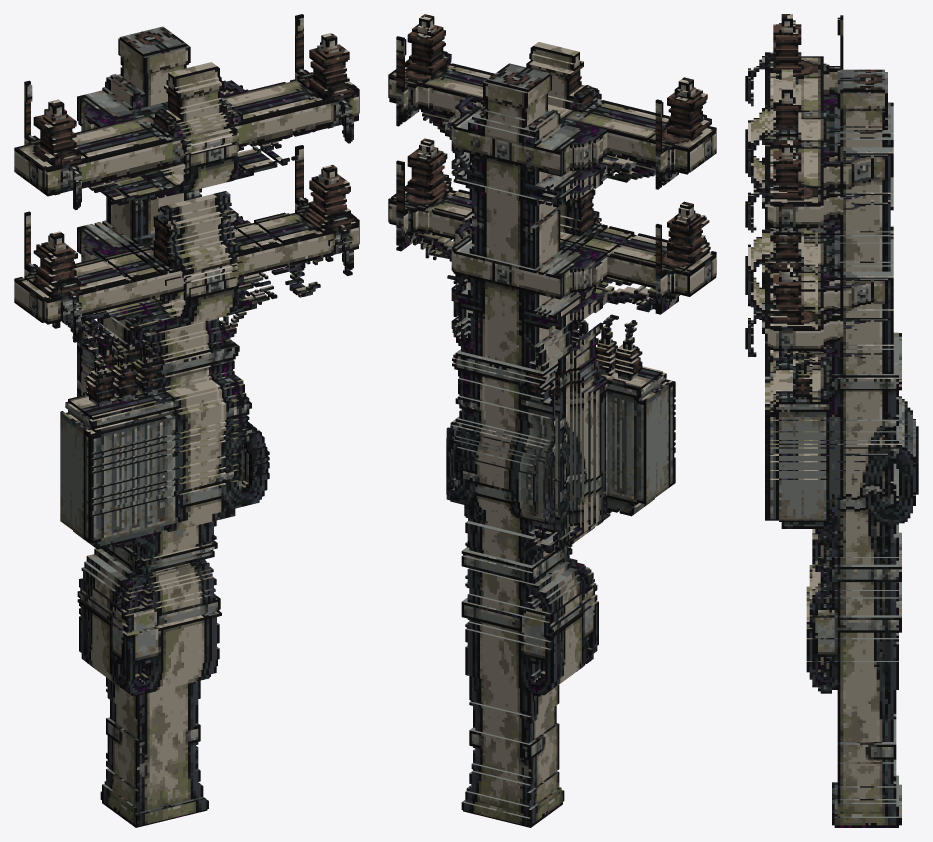
The model's file is city_utility_pole.glb.
3 renders of one model, left to right at view 1: azimuth 30°, elevation 25°; view 2: azimuth 150°, elevation 25°; view 3: azimuth 270°, elevation 25°, orthographic. The views are drawn at different scales.
Parts seen in each view (by area): view 1: city_utility_pole; view 2: city_utility_pole; view 3: city_utility_pole.
Part boxes in pixels (<box>): city_utility_pole: <box>14,14,359,827</box>; city_utility_pole: <box>388,14,716,827</box>; city_utility_pole: <box>745,14,918,827</box>.
Size of the model in its own units: 3.91 by 9 by 1.94.
